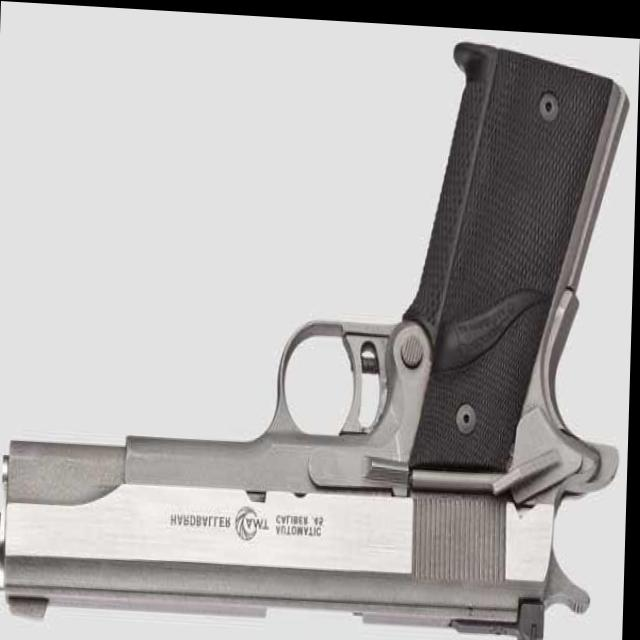handgun: (0, 19, 632, 640)
